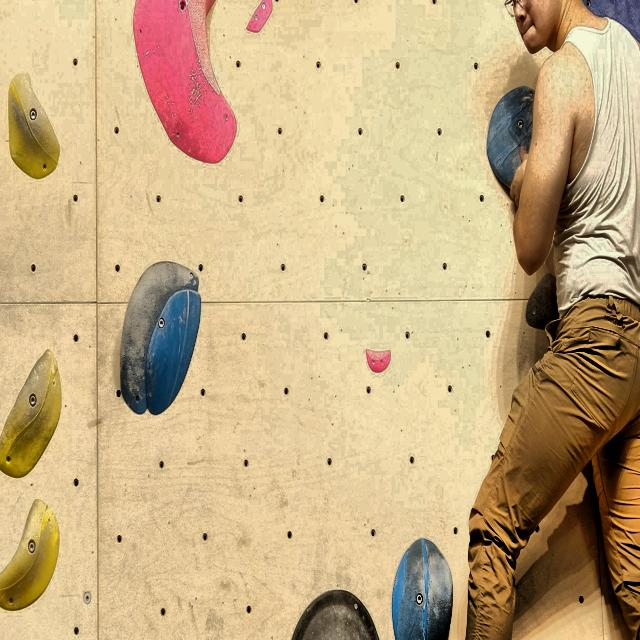Hold: (0, 350, 61, 477), (0, 500, 59, 610), (392, 539, 453, 640), (8, 72, 60, 179), (487, 86, 534, 188), (247, 0, 273, 33), (366, 349, 391, 373)
Macro: (133, 0, 237, 163), (120, 261, 201, 415)
